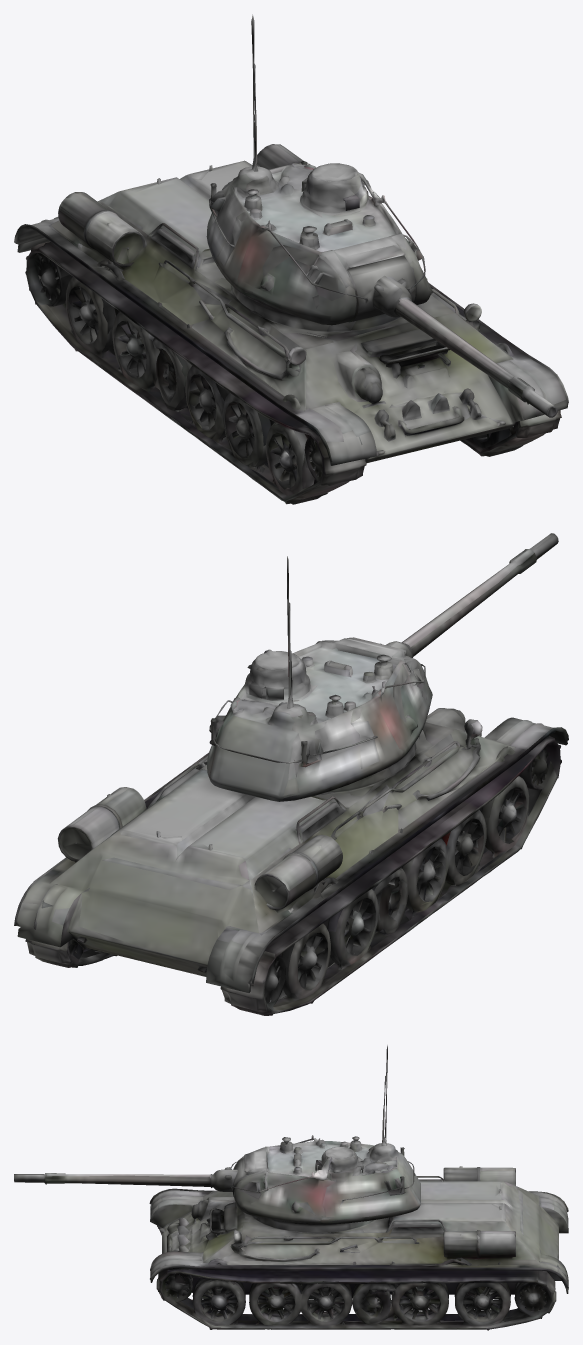
File: t3485_opt.glb
3 views of the same model, one above another, from view 1: azimuth 30°, elevation 25°; view 2: azimuth 150°, elevation 25°; view 3: azimuth 270°, elevation 25° (orthographic). The views are drawn at different scales.
Visible parts, largest first — view 1: node_0; view 2: node_0; view 3: node_0.
Part boxes in pixels (x1,y1,x2,y2): node_0: (14, 14, 568, 504); node_0: (14, 533, 568, 1015); node_0: (14, 1045, 568, 1330).
Size of the model in its own units: 0.3607 by 0.5346 by 1.1.
1 material, 1 textured.
